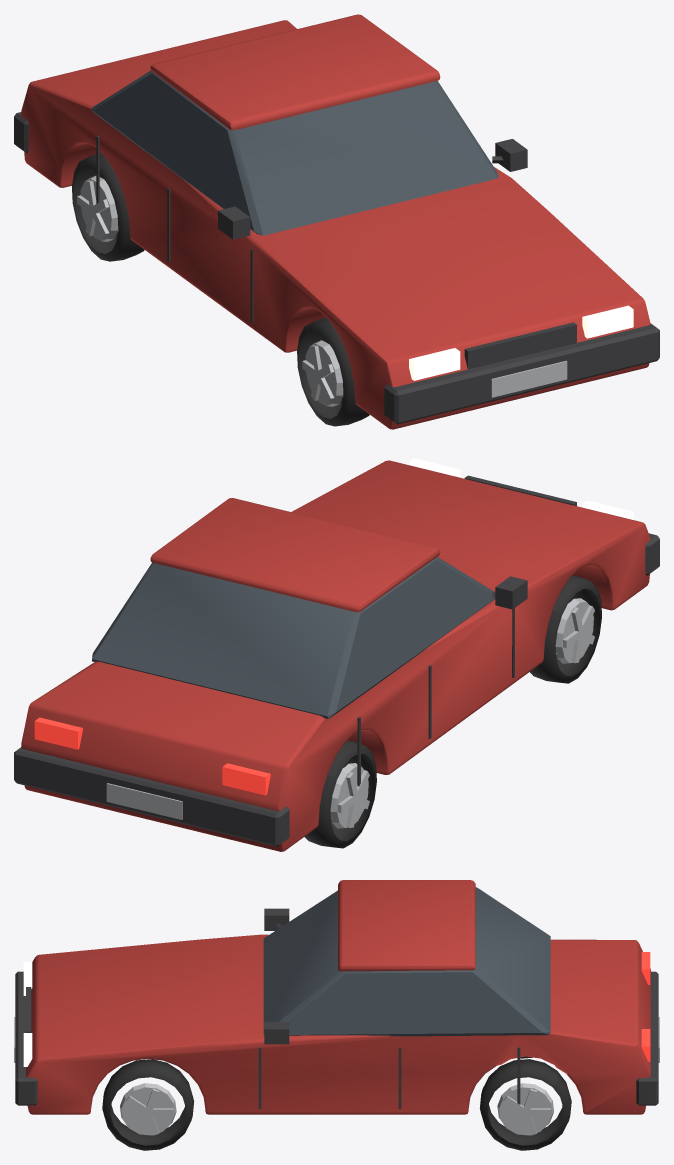
The model's file is car-red.glb.
The picture shows the model from 3 angles, top to bottom: view 1: azimuth 30°, elevation 25°; view 2: azimuth 150°, elevation 25°; view 3: azimuth 270°, elevation 25°; orthographic projection. The views are drawn at different scales.
Visible parts, largest first — view 1: car-red; view 2: car-red; view 3: car-red.
Part boxes in pixels (<box>): car-red: <box>14,14,659,429</box>; car-red: <box>14,458,659,851</box>; car-red: <box>14,880,659,1150</box>.
Size of the model in its own units: 2.04 by 1.41 by 4.62.
